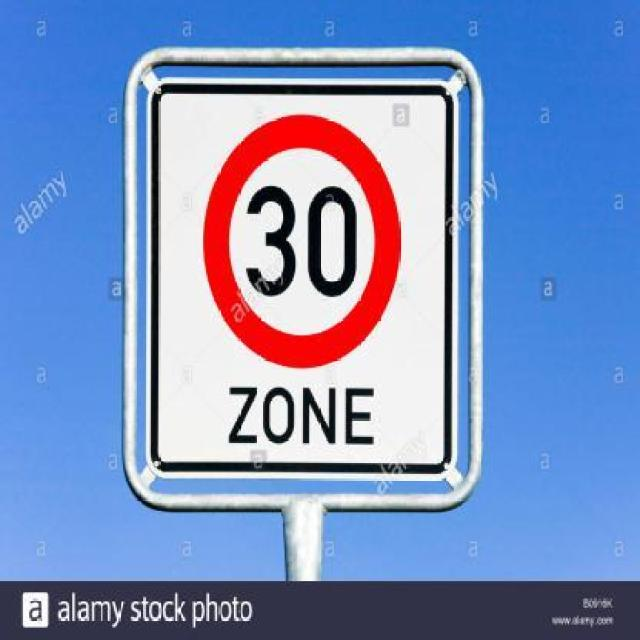speed_limit_30: (206, 108, 403, 361)
